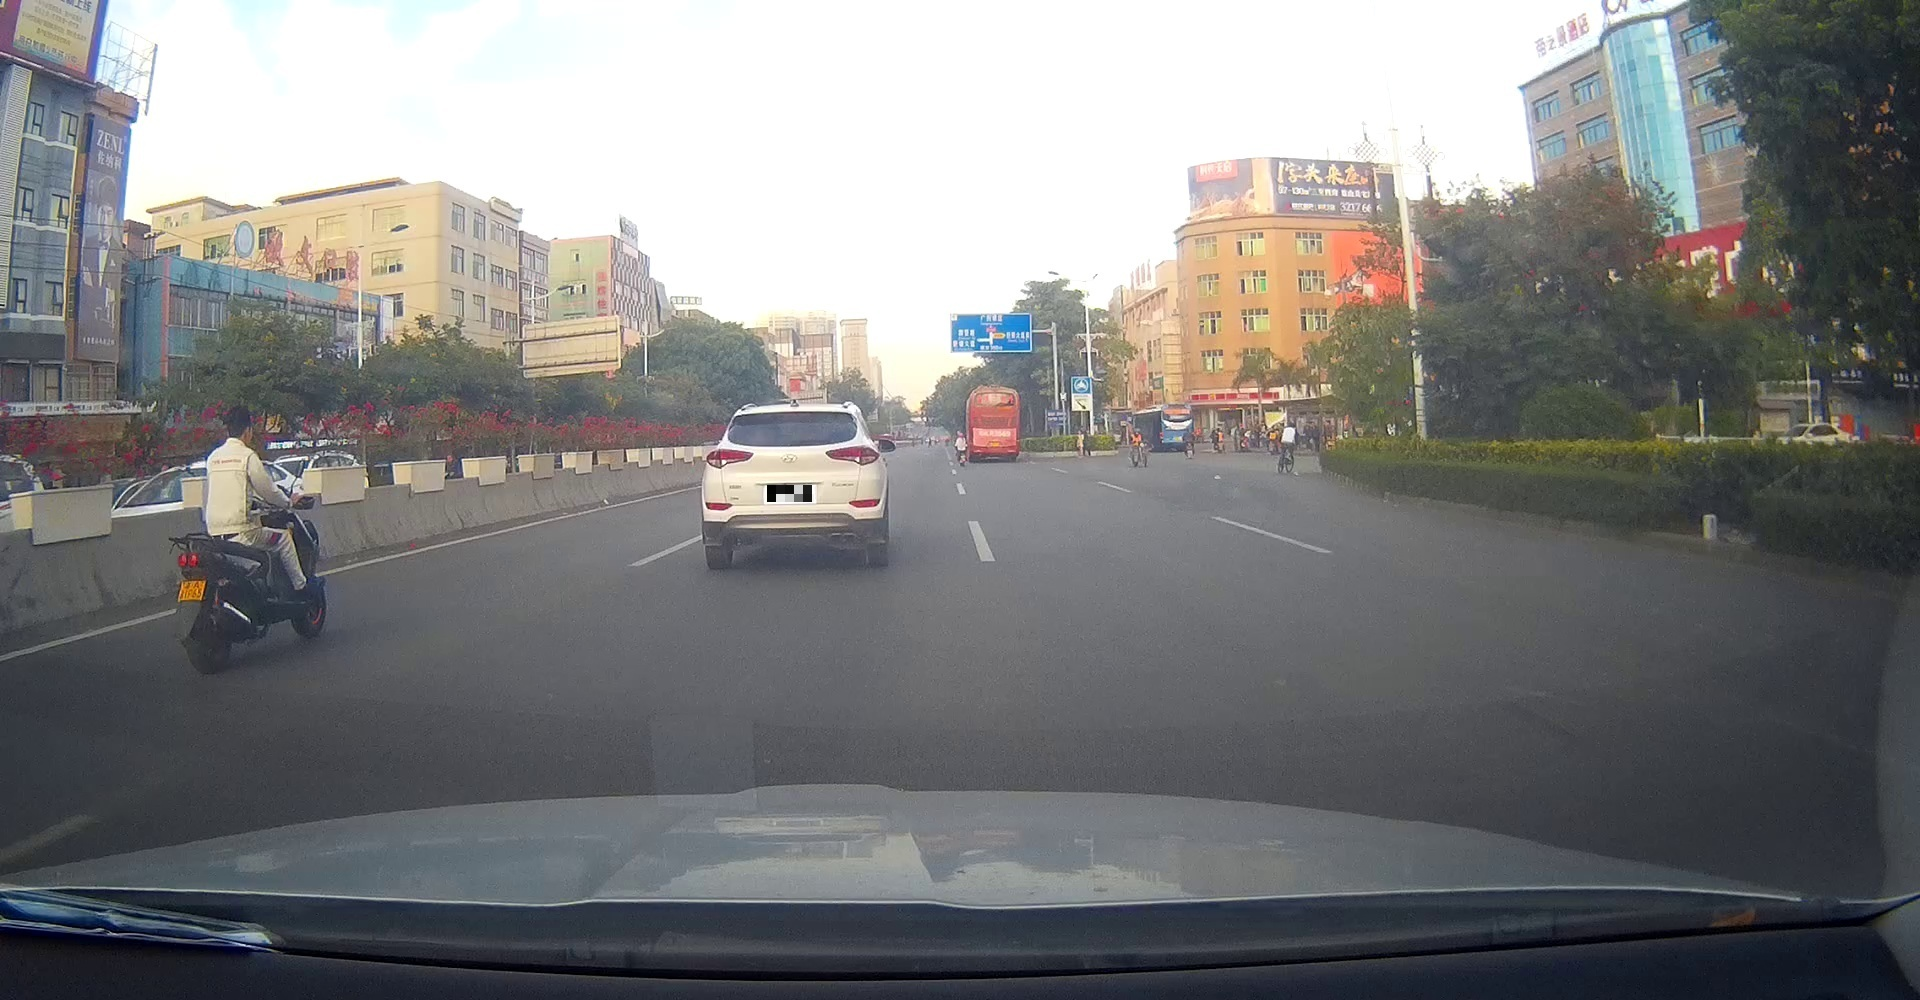L_light: (705, 447, 754, 470)
R_light: (825, 445, 880, 466)
T_light: (777, 412, 808, 418)
day-no: (701, 407, 883, 566)
plate_1: (767, 485, 814, 503)
